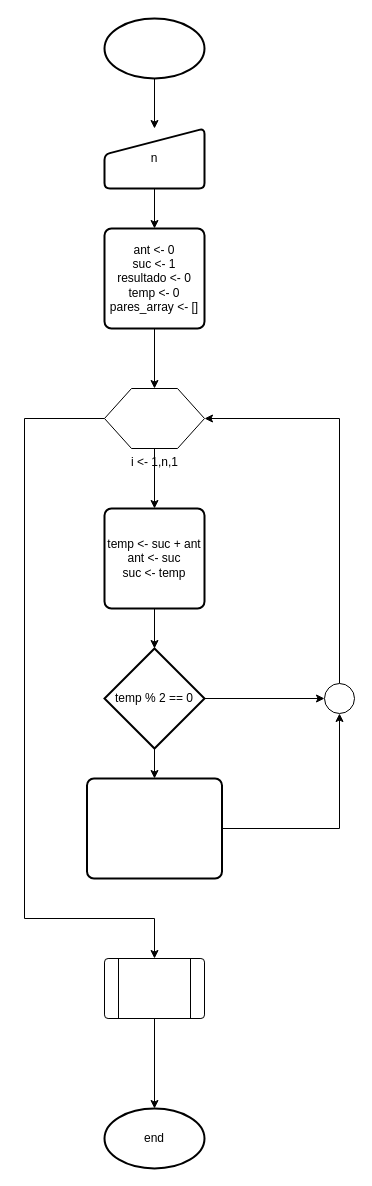
The diagram is 372 pixels wide and 1186 high, and some of its shapes have lost their labels. The box of each missing label's shape, as (x1, y1, x2, y2) in pixels:
pares_array[i] <- temp: (86, 777, 222, 879)
somar_array: (104, 958, 204, 1018)
start: (103, 17, 205, 79)
